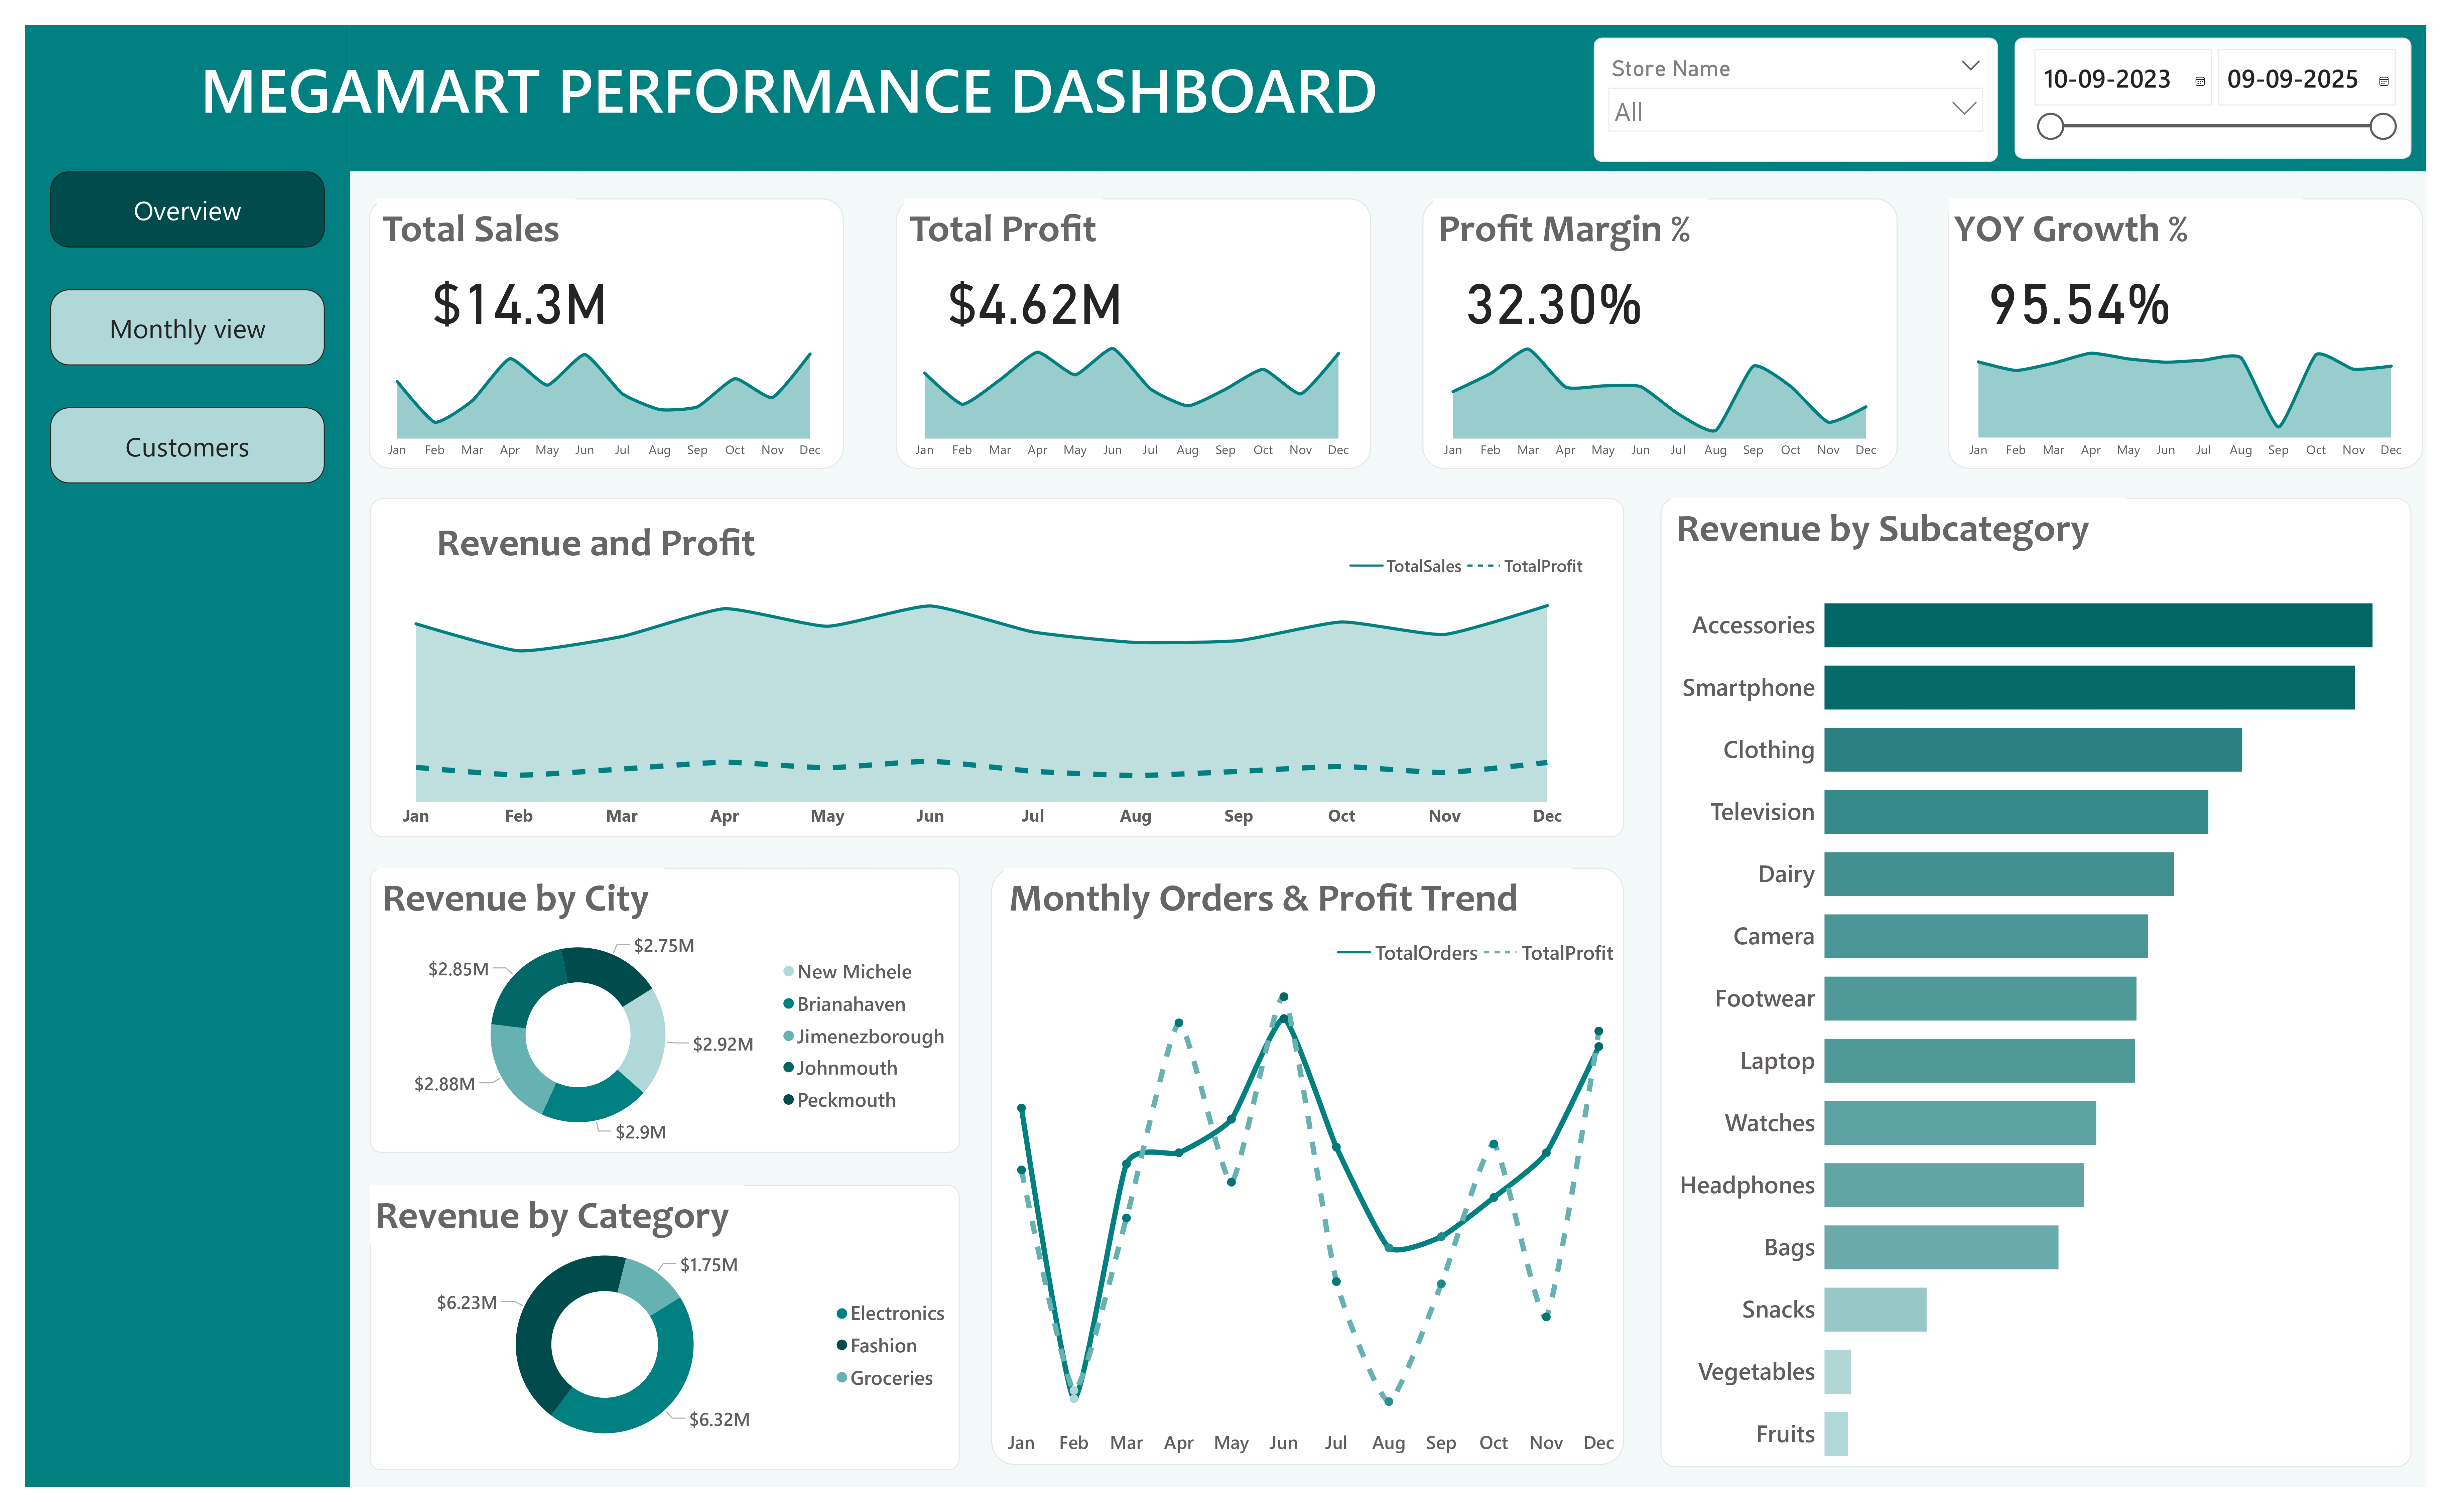

Layout of this report page (visuals, bound fields, positions):
{"tool":"powerbi","page":{"name":"Overview","canvas":[2300,1400],"ordinal":0},"visuals":[{"type":"shape","box":[329.8,1110.5,564.7,273],"z":0},{"type":"shape","box":[925.4,806.8,605.1,571.9],"z":1000},{"type":"shape","box":[1566.1,453.2,719,927.8],"z":2000},{"type":"shape","box":[328.9,165.7,455,259.7],"z":3000},{"type":"shape","box":[0,0,310.8,1400],"z":4000},{"type":"shape","box":[310.8,0,1988.5,140],"z":5000},{"type":"card","fields":{"Values":["Transactions.TotalSales"]},"box":[351.2,222.6,244.8,74.2],"z":6000},{"type":"textbox","box":[336.9,166.1,189.8,56.9],"z":7000},{"type":"areaChart","fields":{"Y":["Transactions.TotalSales"],"Category":["Date.Month Short"]},"box":[336.9,280,434.2,144.7],"z":8000},{"type":"shape","box":[833.8,166.1,455,258.6],"z":9000},{"type":"shape","box":[1337.6,166.1,455,258.6],"z":10000},{"type":"shape","box":[1841.4,166.1,455,258.6],"z":11000},{"type":"areaChart","fields":{"Y":["Transactions.TotalProfit"],"Category":["Date.Month Short"]},"box":[842.4,280,434.2,144.7],"z":12000},{"type":"areaChart","fields":{"Y":["Transactions.ProfitMargin%"],"Category":["Date.Month Short"]},"box":[1347.8,280,434.2,144.7],"z":13000},{"type":"areaChart","fields":{"Y":["Transactions.SalesYOY%"],"Category":["Date.Month Short"]},"box":[1850.8,280,434.2,144.7],"z":14000},{"type":"card","fields":{"Values":["Transactions.TotalProfit"]},"box":[842.4,223.1,249.2,73.6],"z":15000},{"type":"card","fields":{"Values":["Transactions.ProfitMargin%"]},"box":[1362,223.1,204.1,73.6],"z":16000},{"type":"card","fields":{"Values":["Transactions.SalesYOY%"]},"box":[1865.1,223.1,204.1,73.6],"z":17000},{"type":"textbox","box":[842.4,166.1,189.8,56.9],"z":18000},{"type":"textbox","box":[1347.8,165.7,264.6,56.9],"z":19000},{"type":"textbox","box":[1842.5,165.7,338.8,56.9],"z":20000},{"type":"shape","box":[329.8,453.2,1200.7,325.1],"z":21000},{"type":"lineChart","fields":{"Category":["Date.Month Short"],"Y":["Transactions.TotalSales","Transactions.TotalProfit"]},"box":[329.8,495.9,1172.2,282.4],"z":22000},{"type":"textbox","box":[389.2,467.5,329.8,56.9],"z":23000},{"type":"slicer","fields":{"Values":["Date.Date"]},"box":[1905.4,11.9,379.7,116.3],"z":24000},{"type":"barChart","fields":{"Y":["Transactions.TotalSales"],"Category":["Products.SubCategory"]},"box":[1578,517.3,697.6,882.7],"z":25000},{"type":"textbox","box":[1575.6,453.2,436.6,56.9],"z":26000},{"type":"textbox","box":[329.8,1110.5,358.3,56.9],"z":27000},{"type":"shape","box":[329.8,806.8,564.7,273],"z":28000},{"type":"donutChart","fields":{"Category":["Stores.City"],"Y":["Transactions.TotalSales"]},"box":[329.8,851.9,564.7,230.2],"z":29000},{"type":"textbox","box":[336.9,806.8,275.3,56.9],"z":30000},{"type":"lineChart","fields":{"Category":["Date.Month Short"],"Y":["Transactions.TotalOrders"],"Y2":["Transactions.TotalProfit"]},"box":[929.1,864.8,602.4,514.1],"z":31000},{"type":"textbox","box":[937.3,806.8,543.4,56.9],"z":32000},{"type":"donutChart","fields":{"Category":["Products.Category"],"Y":["Transactions.TotalSales"]},"box":[329.8,1148.5,564.7,230.2],"z":33000},{"type":"slicer","fields":{"Values":["Stores.StoreName"]},"box":[1502,11.9,386.8,118.6],"z":34000},{"type":"textbox","box":[0,10,1463.4,129.9],"z":35000},{"type":"pageNavigator","box":[23.7,140,263.4,301.4],"z":35501}]}

Visuals, with their boxes on the page's 2300x1400 design canvas (x1, y1, x2, y2). These are canvas units, not pixel positions in the 2452x1512 screenshot, which may show the page scaled, cropped or inside an application window:
shape: box(330, 1110, 894, 1384)
shape: box(925, 807, 1530, 1379)
shape: box(1566, 453, 2285, 1381)
shape: box(329, 166, 784, 425)
shape: box(0, 0, 311, 1400)
shape: box(311, 0, 2299, 140)
card - Transactions.TotalSales: box(351, 223, 596, 297)
textbox: box(337, 166, 527, 223)
areaChart - Transactions.TotalSales x Date.Month Short: box(337, 280, 771, 425)
shape: box(834, 166, 1289, 425)
shape: box(1338, 166, 1793, 425)
shape: box(1841, 166, 2296, 425)
areaChart - Transactions.TotalProfit x Date.Month Short: box(842, 280, 1277, 425)
areaChart - Transactions.ProfitMargin% x Date.Month Short: box(1348, 280, 1782, 425)
areaChart - Transactions.SalesYOY% x Date.Month Short: box(1851, 280, 2285, 425)
card - Transactions.TotalProfit: box(842, 223, 1092, 297)
card - Transactions.ProfitMargin%: box(1362, 223, 1566, 297)
card - Transactions.SalesYOY%: box(1865, 223, 2069, 297)
textbox: box(842, 166, 1032, 223)
textbox: box(1348, 166, 1612, 223)
textbox: box(1842, 166, 2181, 223)
shape: box(330, 453, 1530, 778)
lineChart - Date.Month Short x Transactions.TotalSales: box(330, 496, 1502, 778)
textbox: box(389, 468, 719, 524)
slicer - Date.Date: box(1905, 12, 2285, 128)
barChart - Transactions.TotalSales x Products.SubCategory: box(1578, 517, 2276, 1400)
textbox: box(1576, 453, 2012, 510)
textbox: box(330, 1110, 688, 1167)
shape: box(330, 807, 894, 1080)
donutChart - Stores.City x Transactions.TotalSales: box(330, 852, 894, 1082)
textbox: box(337, 807, 612, 864)
lineChart - Date.Month Short x Transactions.TotalOrders: box(929, 865, 1532, 1379)
textbox: box(937, 807, 1481, 864)
donutChart - Products.Category x Transactions.TotalSales: box(330, 1148, 894, 1379)
slicer - Stores.StoreName: box(1502, 12, 1889, 130)
textbox: box(0, 10, 1463, 140)
pageNavigator: box(24, 140, 287, 441)
